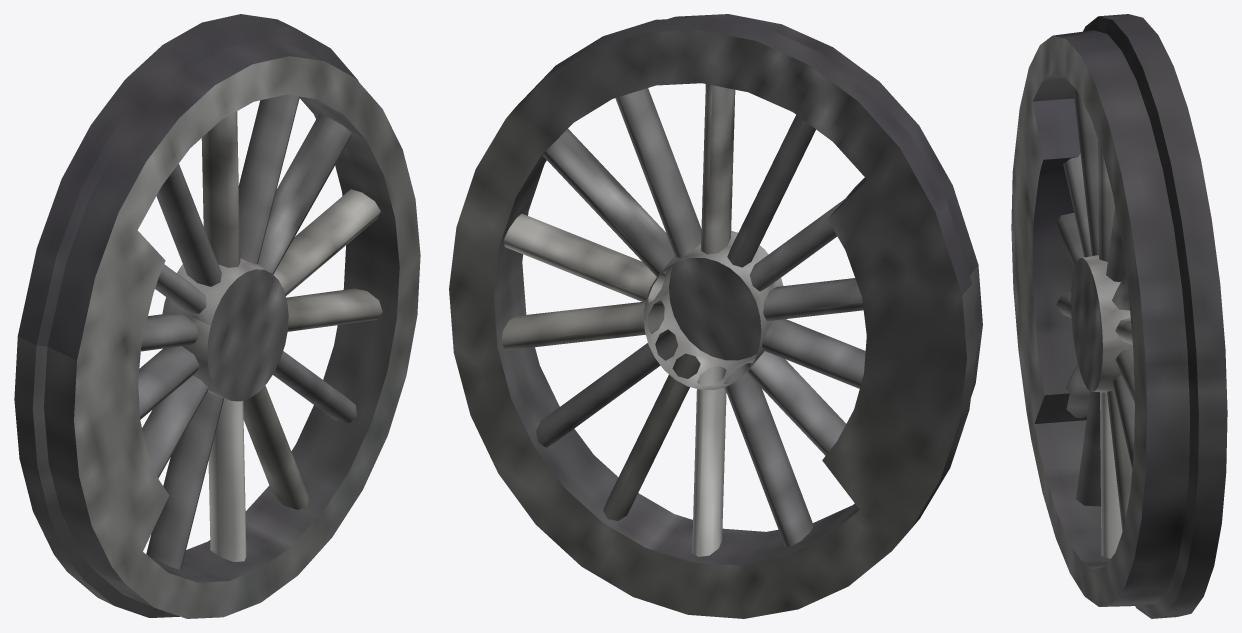
Rendered from LlantaDer4.obj.
3 renders of one model, left to right at view 1: azimuth 30°, elevation 25°; view 2: azimuth 150°, elevation 25°; view 3: azimuth 270°, elevation 25°, orthographic. The views are drawn at different scales.
Parts seen in each view (by area): view 1: LlantaDer4; view 2: LlantaDer4; view 3: LlantaDer4.
Boxes of the visible parts, x1,y1,x2,y2 form: LlantaDer4: (14, 14, 420, 618); LlantaDer4: (449, 14, 982, 618); LlantaDer4: (1011, 14, 1227, 618).
Size of the model in its own units: 0.3158 by 0.3937 by 0.1362.
1 material, 1 textured.
